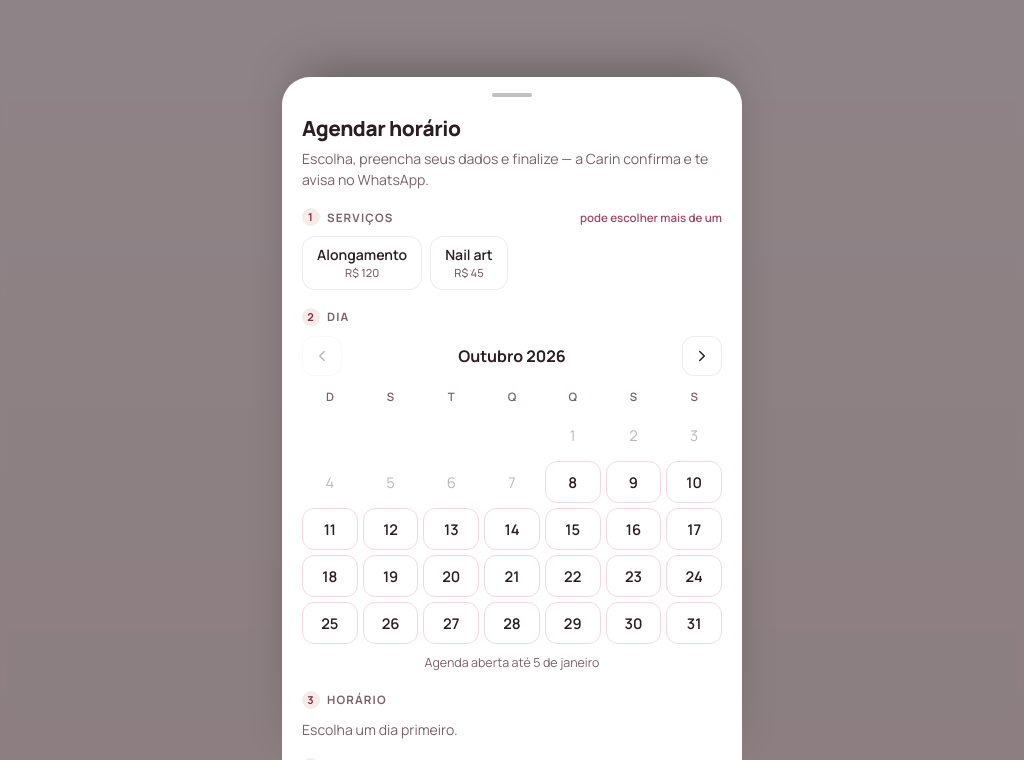
Sheet do site: até quando a agenda está aberta (escolha da Carin) › com 3 meses abertos, a cliente chega a um dia de daqui a 80 dias e escolhe o horário
Step 1. Click the button named "Próximo mês" → (702, 356), box [682,336,722,376]
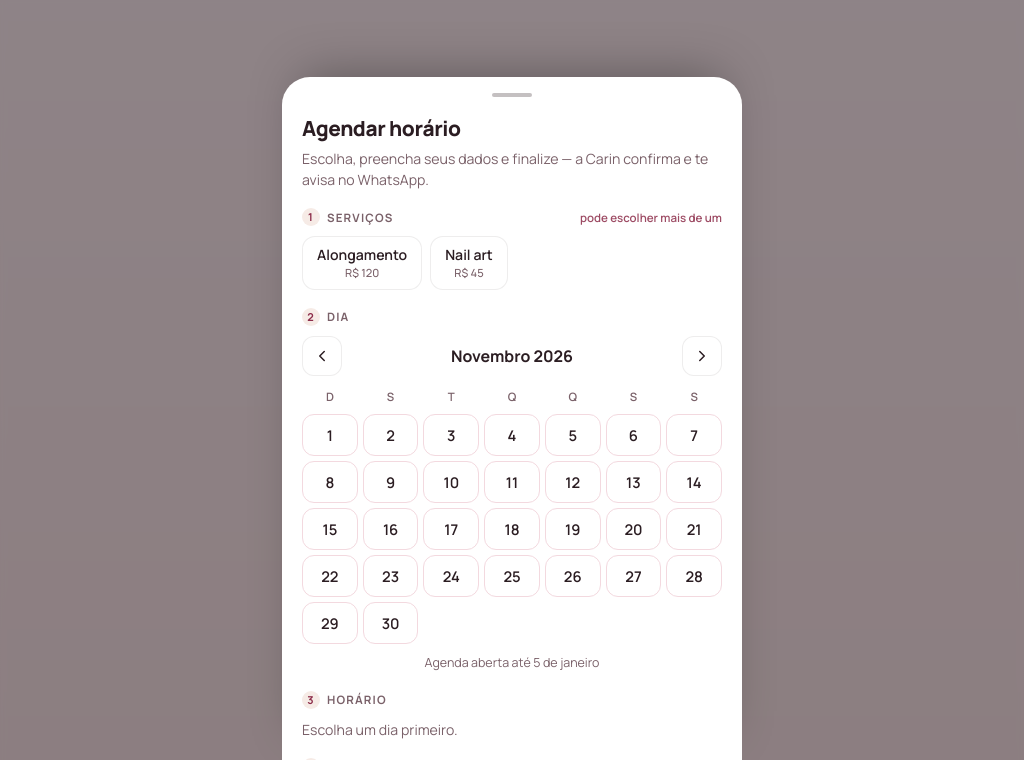
Step 2. Click the button named "Próximo mês" → (702, 356), box [682,336,722,376]
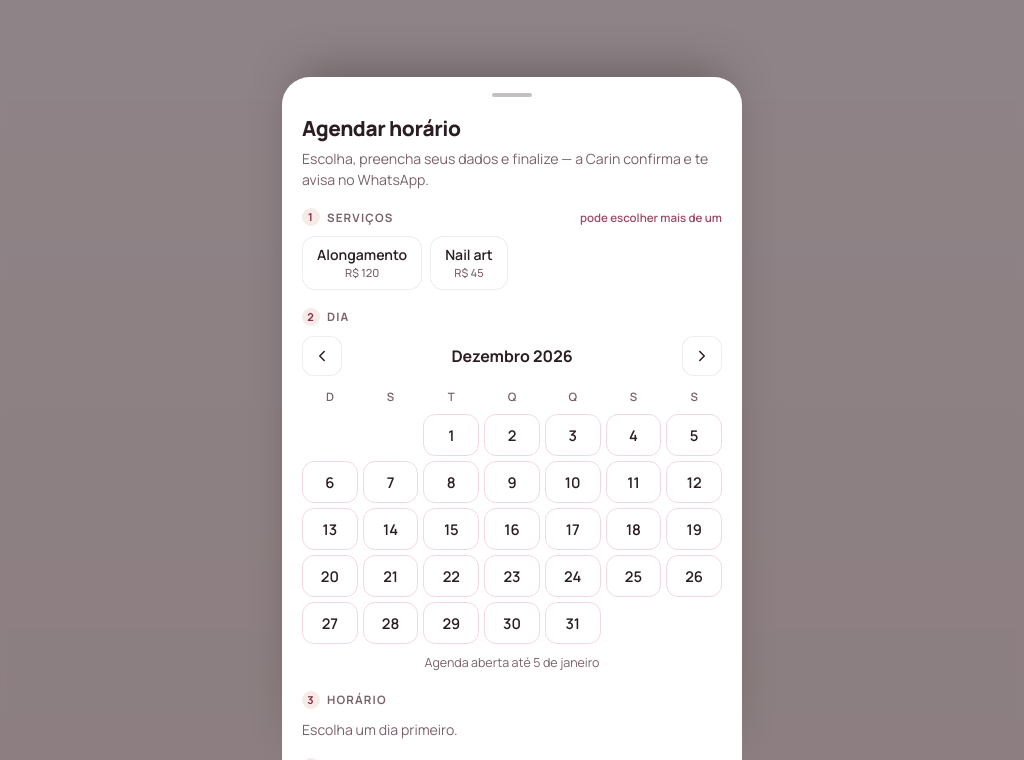
Step 3. Click the button "26" → (694, 576), box [666,555,722,597]
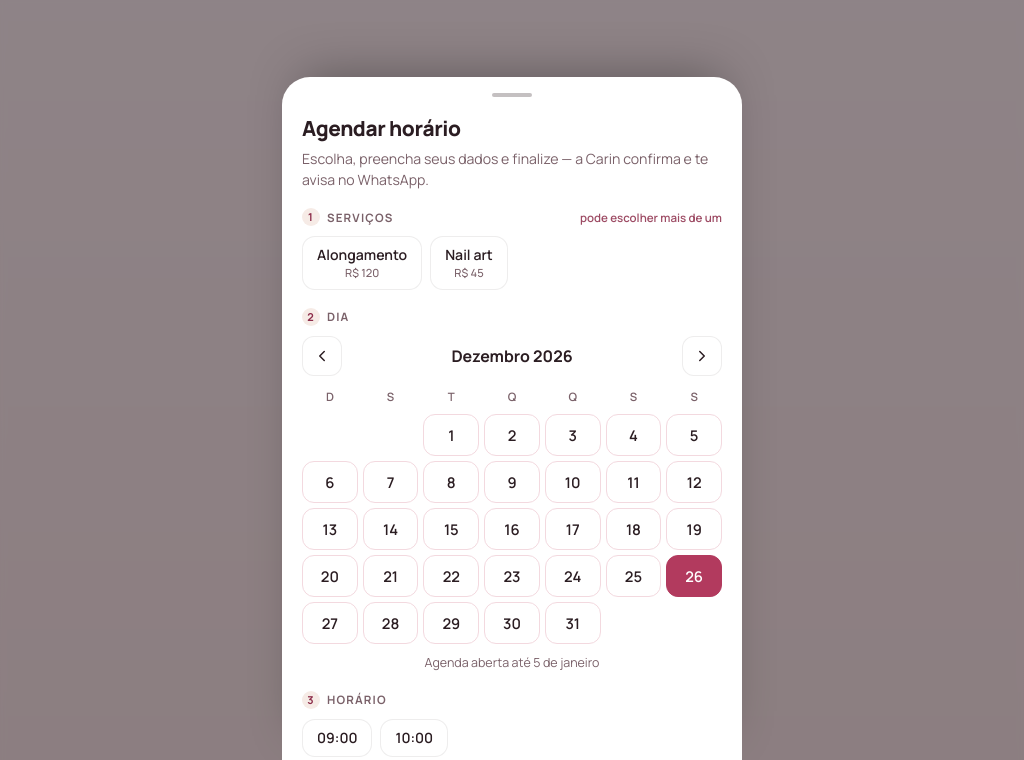
Expected: the button "09:00" is shown, [302,719,372,757]
